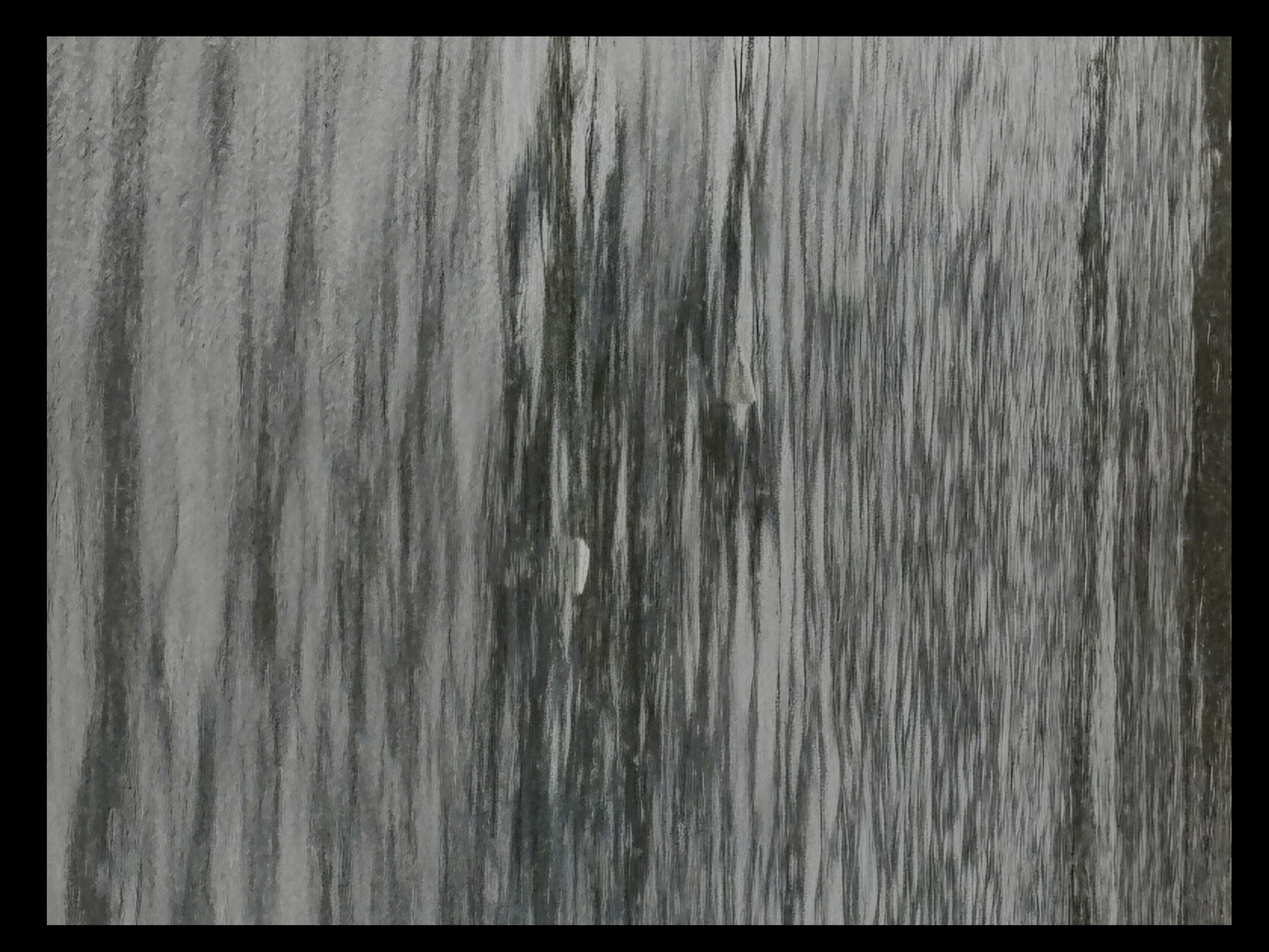Plastic wastes: (970, 534, 1019, 588)
